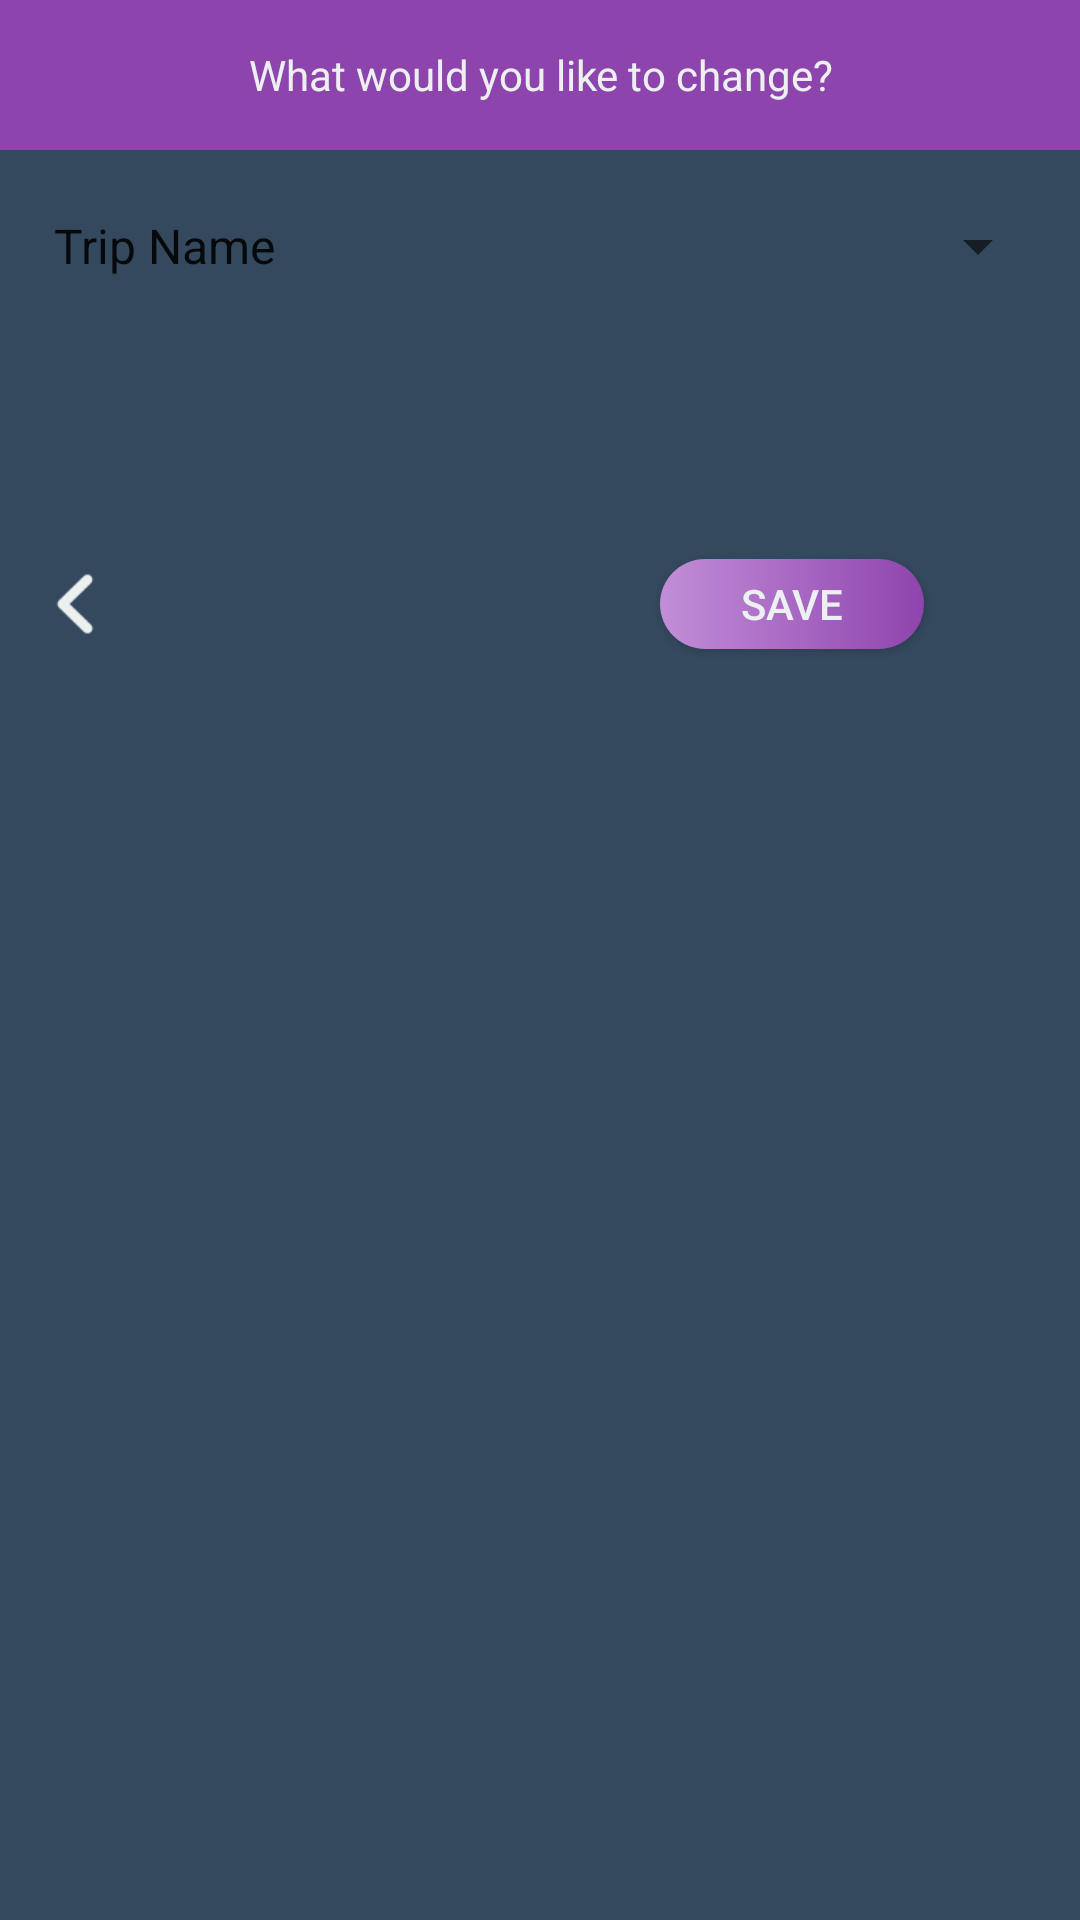

Named icons in this screenshot (1080*1920) and their bounding boxes, (x1, y1, x2, y2):
back: (57, 574, 94, 634)
